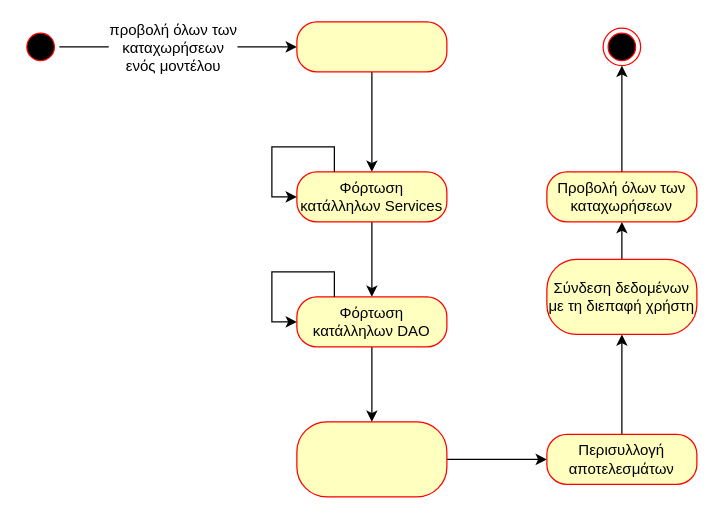
This 719x519 diagram has some shape labels left out. The shapes that lost their labels are listed below. From the top down, each one's centre as x and y in pixels, then its label:
At [371,46]: "Εξυπηρέτηση μέσω Servlet".
At [371,459]: "Υποβολή ερωτημάτων στη βάση δεδομένων".
